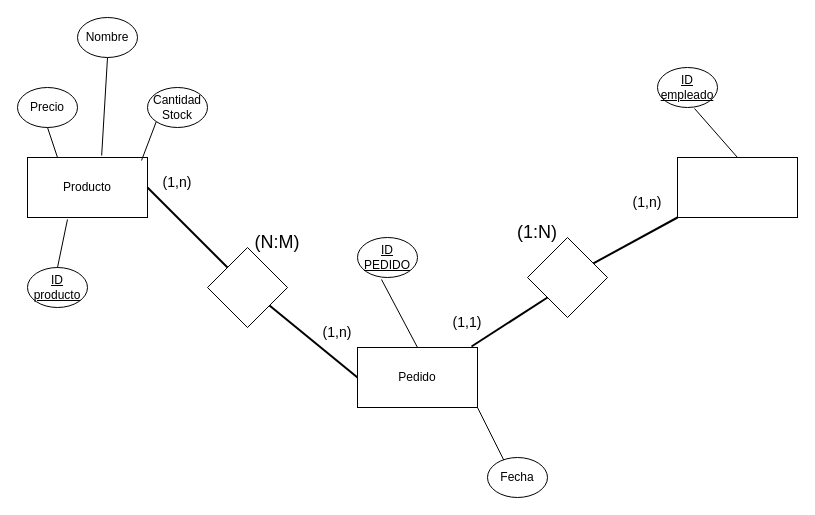
This 815x515 diagram has some shape labels left out. Each missing label, with the centre of its shape:
"contener" belongs at point 247,287.
"Empleado" belongs at point 737,187.
"Registrar" belongs at point 567,277.
